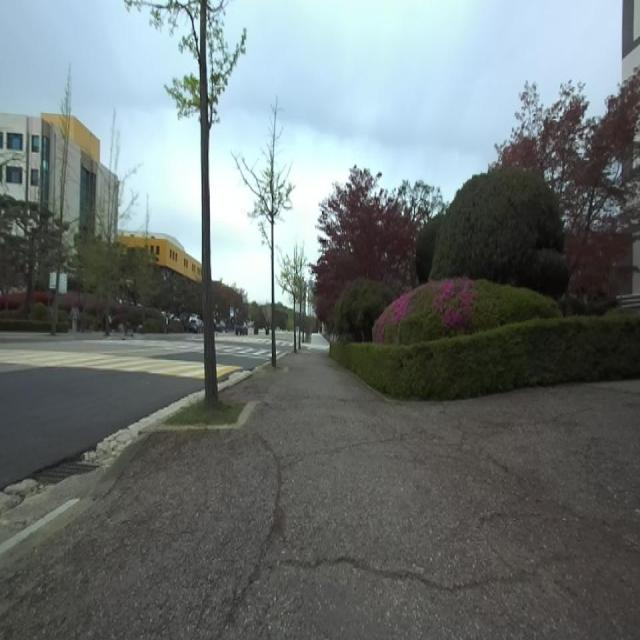sidewalk: (0, 348, 640, 639), (0, 348, 639, 639), (0, 433, 149, 570)
